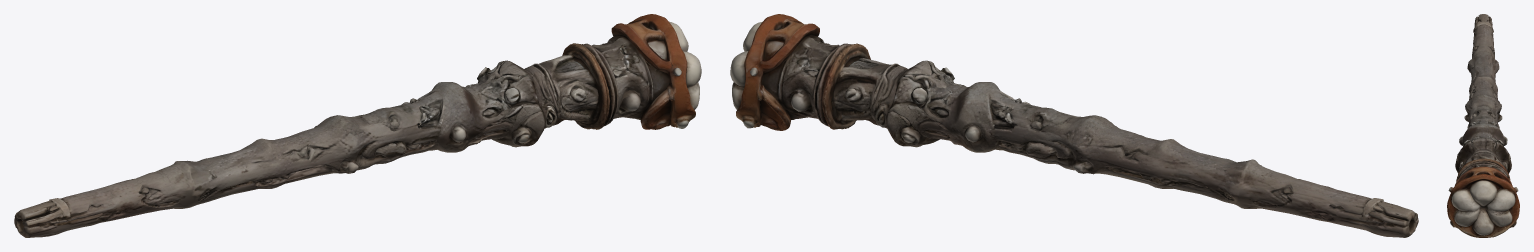
The model's file is ancient wand 3d model.glb.
3 renders of one model, left to right at view 1: azimuth 30°, elevation 25°; view 2: azimuth 150°, elevation 25°; view 3: azimuth 270°, elevation 25°, orthographic. The views are drawn at different scales.
Visible parts, largest first — view 1: tripo_node_b927c393-17f6-41db-a677-bf57f04ca47a; view 2: tripo_node_b927c393-17f6-41db-a677-bf57f04ca47a; view 3: tripo_node_b927c393-17f6-41db-a677-bf57f04ca47a.
Part boxes in pixels (x1,y1,x2,y2): tripo_node_b927c393-17f6-41db-a677-bf57f04ca47a: [14, 14, 701, 237]; tripo_node_b927c393-17f6-41db-a677-bf57f04ca47a: [730, 14, 1418, 237]; tripo_node_b927c393-17f6-41db-a677-bf57f04ca47a: [1447, 14, 1519, 237].
Bounding box in the file's own units: 0.9797 × 0.1428 × 0.1581.
1 material, 1 textured.
